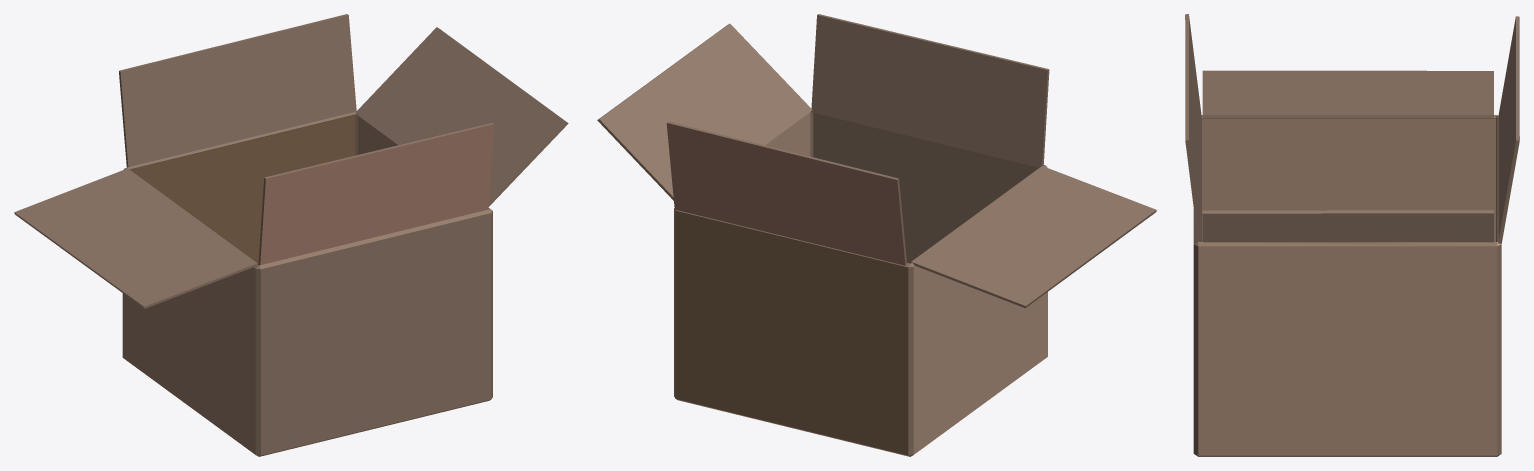
The model's file is carton.dae.
3 renders of one model, left to right at view 1: azimuth 30°, elevation 25°; view 2: azimuth 150°, elevation 25°; view 3: azimuth 270°, elevation 25°, orthographic. The views are drawn at different scales.
Visible parts, largest first — view 1: ___DUMMY_box1, Box02; view 2: ___DUMMY_box1, Box02; view 3: Box02, ___DUMMY_box1.
Boxes of the visible parts, x1,y1,x2,y2 form: ___DUMMY_box1: [14, 14, 568, 308]; Box02: [122, 111, 492, 456]; ___DUMMY_box1: [597, 14, 1156, 308]; Box02: [674, 111, 1047, 456]; Box02: [1193, 115, 1501, 456]; ___DUMMY_box1: [1185, 14, 1519, 243].
Size of the model in its own units: 0.4745 by 0.2882 by 0.3014.
